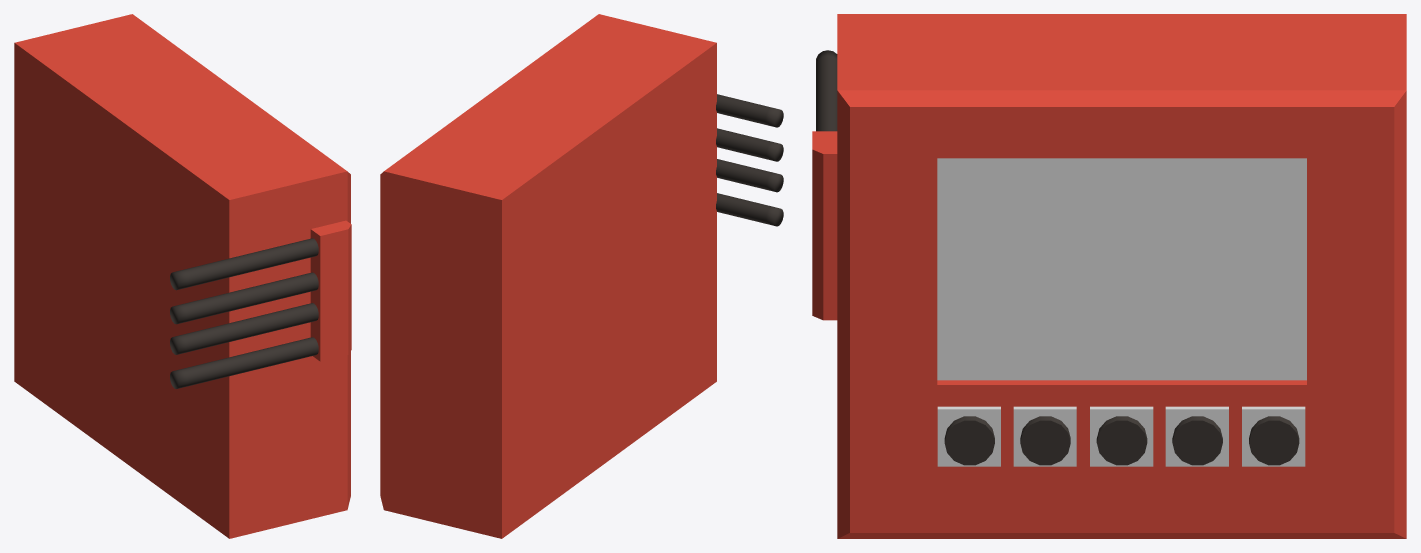
Rendered from Terminal.fbx.
3 views of the same model, side by side, from view 1: azimuth 30°, elevation 25°; view 2: azimuth 150°, elevation 25°; view 3: azimuth 270°, elevation 25° (orthographic). The views are drawn at different scales.
Parts seen in each view (by area): view 1: Cube.001; view 2: Cube.001; view 3: Cube.001.
Part boxes in pixels (x1,y1,x2,y2): Cube.001: [14, 14, 351, 538]; Cube.001: [380, 14, 783, 538]; Cube.001: [812, 14, 1406, 538].
Size of the model in its own units: 13.28 by 21.94 by 26.35.
